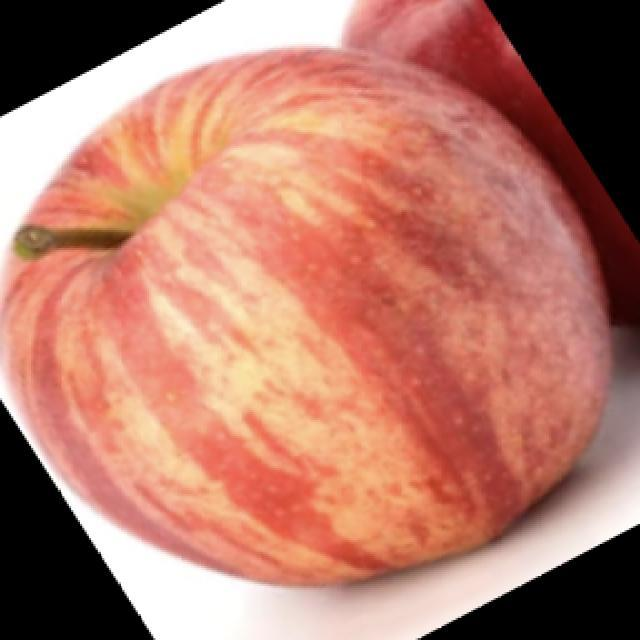Fresh Apple: (18, 57, 610, 573)
